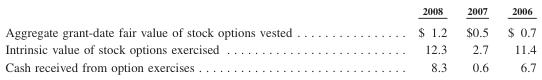table: (4, 4, 535, 74)
table column: (4, 4, 354, 74), (354, 4, 455, 74), (455, 4, 497, 74), (497, 4, 535, 74)
table column header: (4, 4, 535, 20)
table row: (4, 20, 535, 40), (4, 40, 535, 58), (4, 4, 535, 20), (4, 58, 535, 74)
